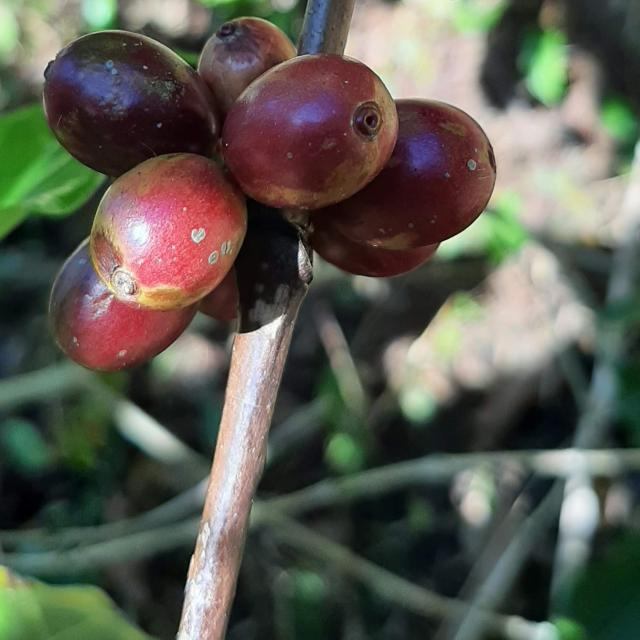red: (222, 53, 399, 209), (316, 98, 497, 250), (42, 30, 219, 177), (48, 238, 197, 372), (197, 16, 297, 116), (312, 213, 439, 277)
yellow: (89, 153, 246, 311)
